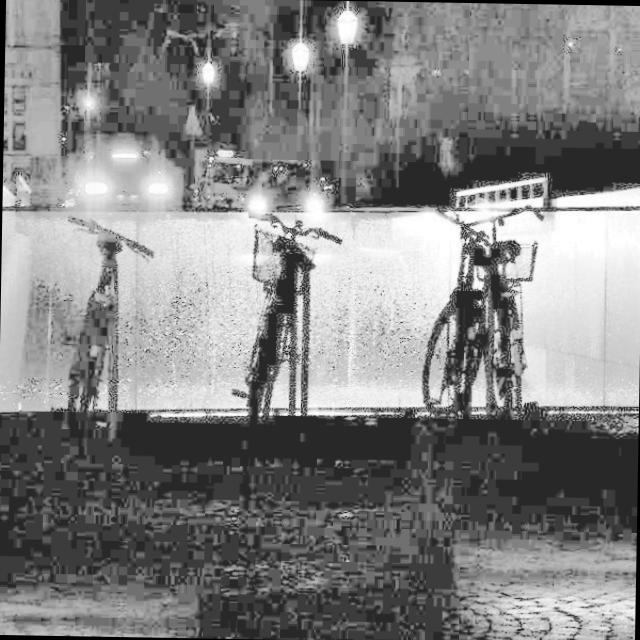Bicycle: (44, 178, 154, 442), (232, 185, 332, 438), (428, 196, 524, 415)
